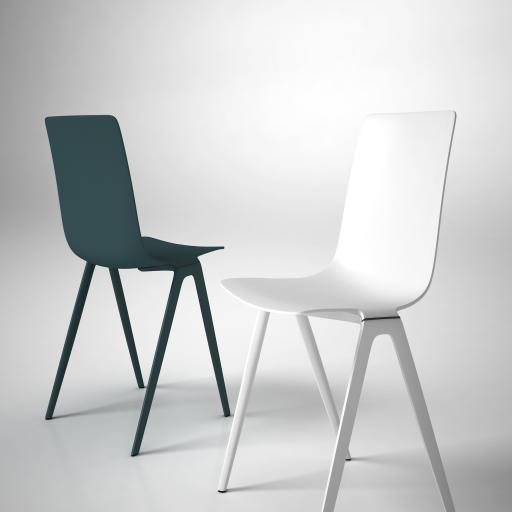chair: (217, 110, 456, 512), (44, 114, 231, 456)
